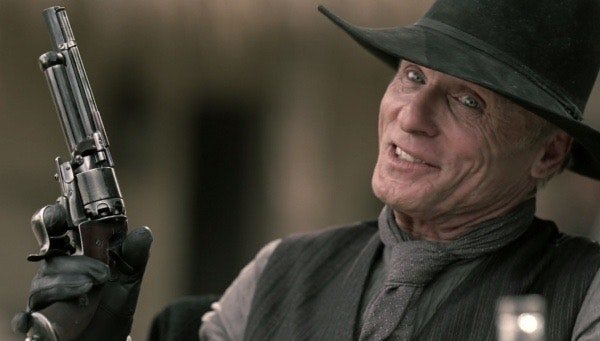Revolver: (11, 5, 165, 337)
